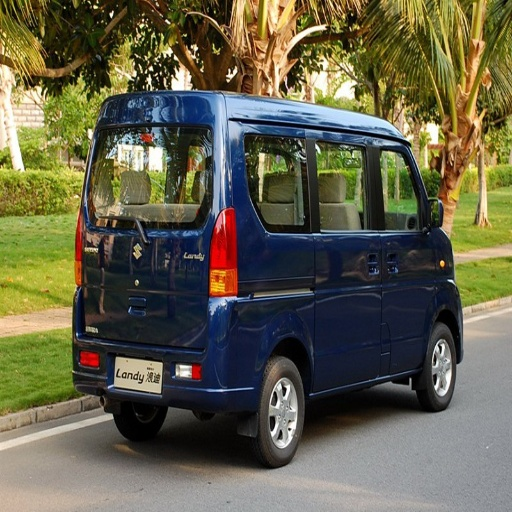back_bumper: (72, 289, 242, 411)
back_left_door: (388, 272, 434, 369)
back_right_door: (302, 131, 380, 289), (258, 145, 300, 228)
trunk: (93, 207, 328, 394), (173, 100, 254, 179)
